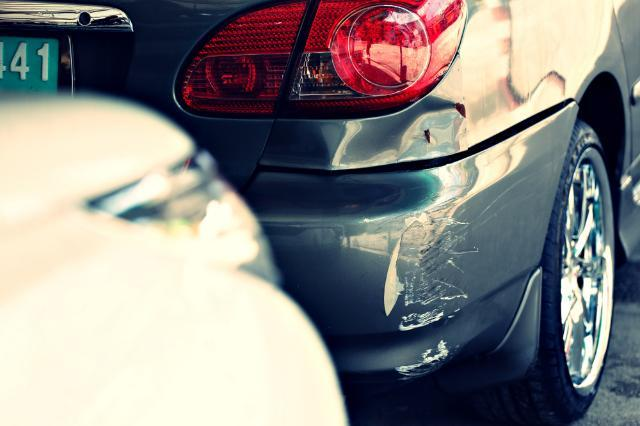dent: (333, 95, 463, 169)
scratch: (363, 186, 483, 382)
